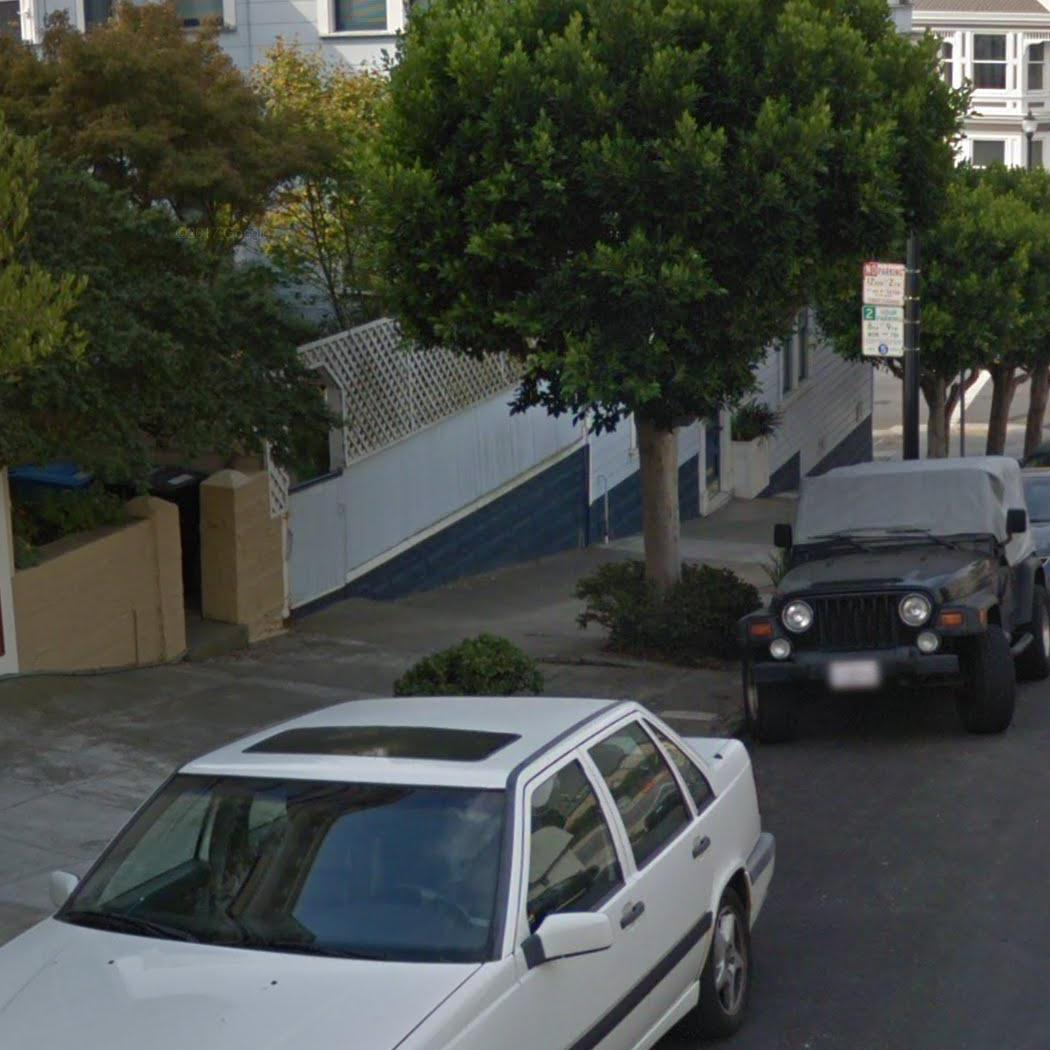2 Hour Parking: (860, 303, 906, 358)
No Parking: (861, 260, 907, 305)
